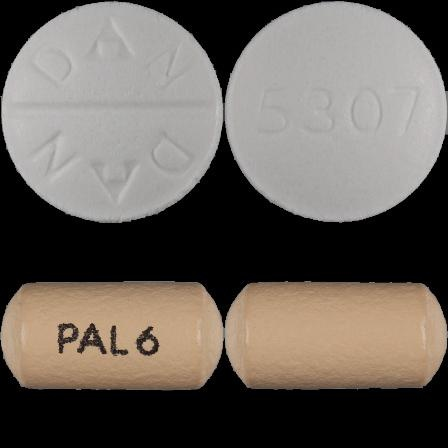21695-453: (0, 0, 224, 224)
